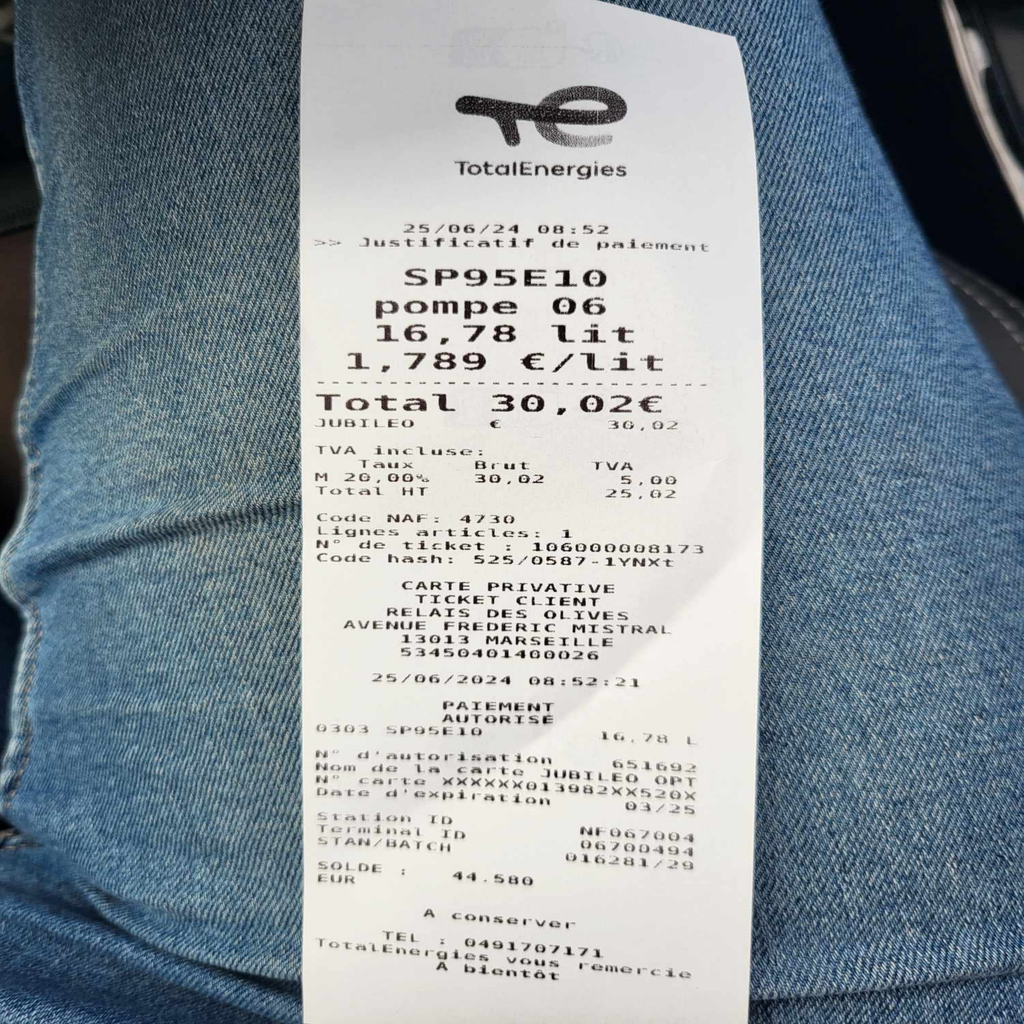recipt: (302, 0, 768, 1022)
